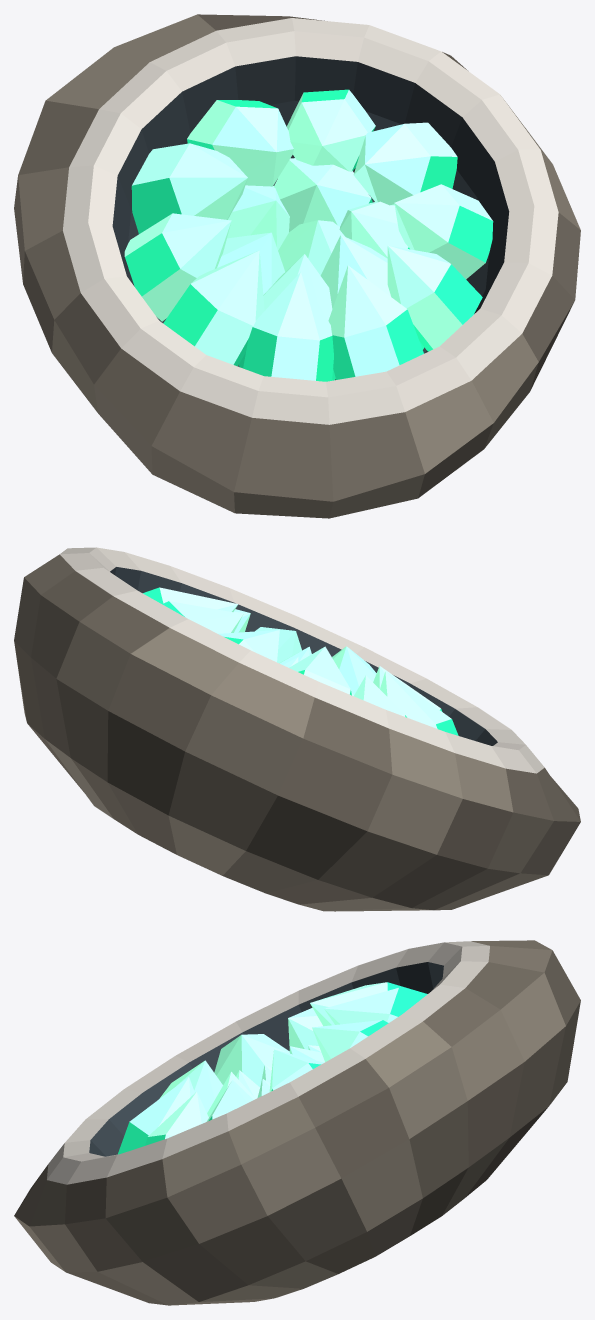
The model's file is cristal-verde.glb.
3 renders of one model, top to bottom at view 1: azimuth 30°, elevation 25°; view 2: azimuth 150°, elevation 25°; view 3: azimuth 270°, elevation 25°, orthographic. The views are drawn at different scales.
Parts seen in each view (by area): view 1: cristal-verde; view 2: cristal-verde; view 3: cristal-verde.
Part boxes in pixels (box(x1,y1,x2,y2)): cristal-verde: box(14, 14, 580, 518); cristal-verde: box(14, 547, 580, 911); cristal-verde: box(14, 940, 580, 1305).
Size of the model in its own units: 0.1301 by 0.0909 by 0.1356.
